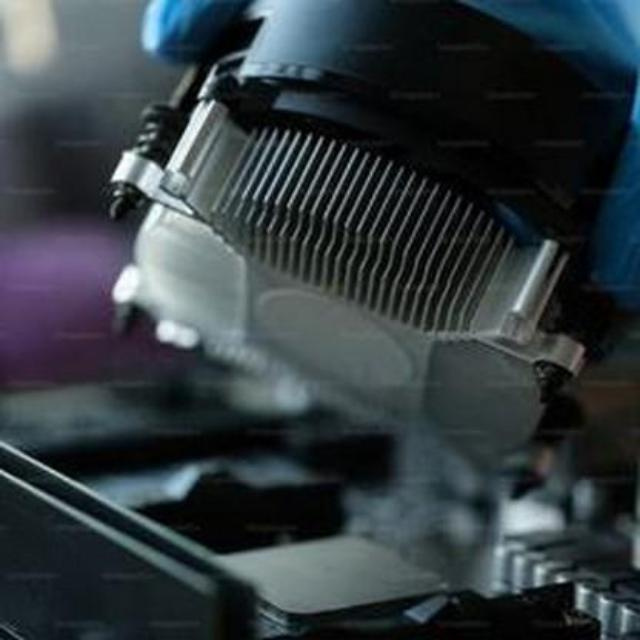CPU_Fan: (108, 0, 640, 465)
